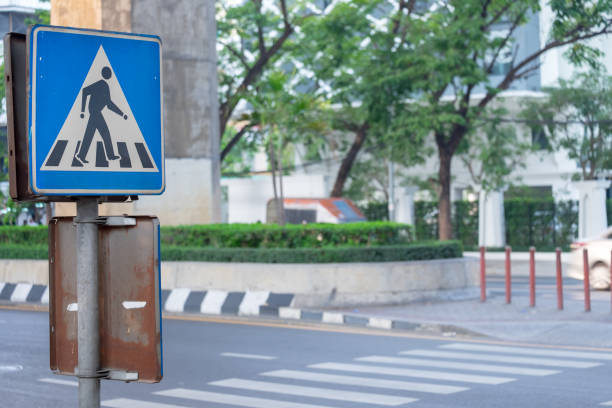yaya_gecidi: (29, 24, 169, 198)
